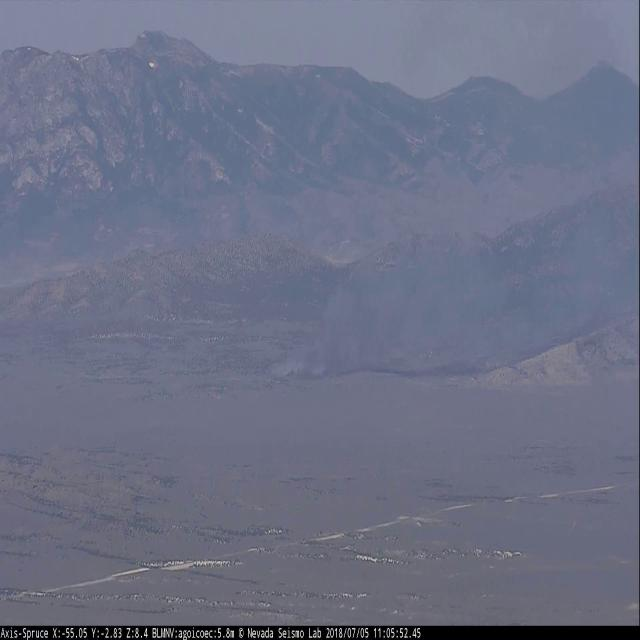smoke: (262, 229, 530, 392)
